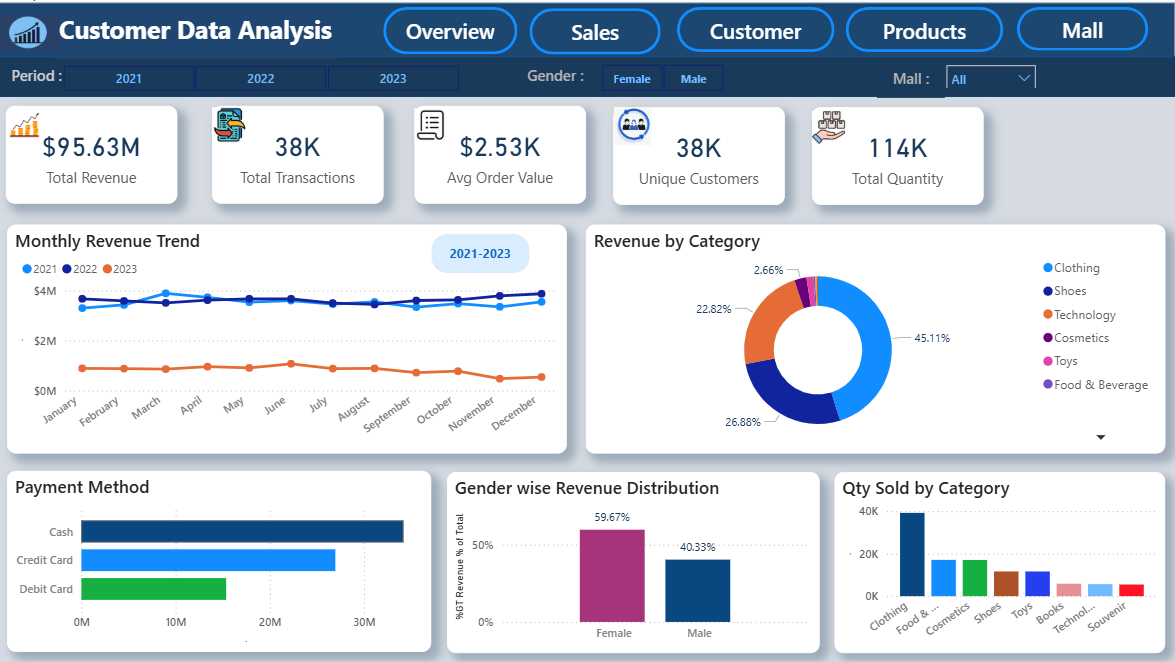

This screenshot's page, from the dashboard's own definition file:
{"tool":"powerbi","page":{"name":"Overview","canvas":[1280,720],"ordinal":0},"visuals":[{"type":"shape","box":[0,58.8,1280,45],"z":0},{"type":"shape","box":[0,0,1280.3,61.1],"z":1000},{"type":"card","fields":{"Values":["customer_data_analysis.Total Revenue"]},"box":[10,112.5,186.2,106.2],"z":2000},{"type":"slicer","fields":{"Values":["customer_data_analysis.invoice_date.Variation.Date Hierarchy.Year"]},"box":[46.4,61.8,479.1,39.9],"z":3000},{"type":"slicer","fields":{"Values":["customer_data_analysis.shopping_mall"]},"box":[1021.2,58.8,117.5,35],"z":4000},{"type":"textbox","box":[10.3,64.4,68.3,36.1],"z":5000},{"type":"textbox","box":[956.2,66.2,73.8,37.5],"z":6000},{"type":"image","box":[12.5,112.5,35,41.2],"z":7000},{"type":"card","fields":{"Values":["customer_data_analysis.Total Transactions"]},"box":[233.8,112.5,186.2,106.2],"z":8000},{"type":"image","box":[233.8,112.5,38.8,41.2],"z":9000},{"type":"card","fields":{"Values":["customer_data_analysis.Avg Order Value"]},"box":[453.8,112.5,186.2,106.2],"z":10000},{"type":"image","box":[453.8,113.8,36.2,40],"z":11000},{"type":"card","fields":{"Values":["customer_data_analysis.Unique Customers"]},"box":[670,113.8,186.2,106.2],"z":12000},{"type":"image","box":[670,113.8,42.5,41.2],"z":13000},{"type":"card","fields":{"Values":["customer_data_analysis.Total Quantity"]},"box":[885,113.8,186.2,106.2],"z":14000},{"type":"image","box":[885,116.2,36.2,38.8],"z":15000},{"type":"lineChart","title":"Monthly Revenue Trend","fields":{"Category":["customer_data_analysis.invoice_date.Variation.Date Hierarchy.Month"],"Y":["customer_data_analysis.Total Revenue"],"Series":["customer_data_analysis.Year"]},"box":[10.3,242.1,607.9,248.6],"z":16000},{"type":"donutChart","title":"   Revenue by Category","fields":{"Category":["customer_data_analysis.category"],"Y":["customer_data_analysis.Total Revenue"]},"box":[638.8,242.1,629.8,248.6],"z":17000},{"type":"textbox","box":[471.4,251.2,108.2,43.8],"z":18000},{"type":"barChart","title":"Payment Method","fields":{"Category":["customer_data_analysis.payment_method"],"Y":["Sum(customer_data_analysis.Year)"]},"box":[10.3,508.8,461.1,197.1],"z":19000},{"type":"columnChart","title":"Gender wise Revenue Distribution","fields":{"Category":["customer_data_analysis.gender"],"Y":["customer_data_analysis.Revenue % of Total"]},"box":[489.4,510,404.4,197.1],"z":20000},{"type":"columnChart","title":"Qty Sold by Category","fields":{"Category":["customer_data_analysis.category"],"Y":["Sum(customer_data_analysis.quantity)"]},"box":[909.3,510,359.3,197.1],"z":21000},{"type":"slicer","fields":{"Values":["customer_data_analysis.gender"]},"box":[631.1,60.5,181.6,42.5],"z":22000},{"type":"textbox","box":[562.9,64.4,86.3,34.8],"z":23000},{"type":"textbox","box":[62.2,6.3,308.3,54.6],"z":24000},{"type":"image","box":[0,4.9,67.3,55],"z":25000},{"type":"actionButton","title":"Overview","box":[419.4,5.6,145.8,51.4],"z":26000},{"type":"actionButton","title":"Sales","box":[578.4,6.8,142.6,50.2],"z":27000},{"type":"actionButton","title":"Customer","box":[738.6,5.4,171.1,48.9],"z":28000},{"type":"actionButton","title":"Customer","box":[921.9,5.4,171.1,48.9],"z":29000},{"type":"actionButton","box":[1107.9,5.4,142.6,47.5],"z":30000}]}

Visuals, with their boxes in screenshot pixels (x1, y1, x2, y2), scaled from the page's 1280x720 canvas onto the 1175x662 screenshot:
shape: 0,54,1174,95
shape: 0,0,1174,56
card - customer_data_analysis.Total Revenue: 9,103,180,201
slicer - customer_data_analysis.invoice_date.Variation.Date Hierarchy.Year: 43,57,482,94
slicer - customer_data_analysis.shopping_mall: 937,54,1045,86
textbox: 9,59,72,92
textbox: 878,61,946,95
image: 11,103,44,141
card - customer_data_analysis.Total Transactions: 215,103,386,201
image: 215,103,250,141
card - customer_data_analysis.Avg Order Value: 417,103,588,201
image: 417,105,450,141
card - customer_data_analysis.Unique Customers: 615,105,786,202
image: 615,105,654,143
card - customer_data_analysis.Total Quantity: 812,105,983,202
image: 812,107,846,143
"Monthly Revenue Trend" lineChart: 9,223,567,451
"   Revenue by Category" donutChart: 586,223,1165,451
textbox: 433,231,532,271
"Payment Method" barChart: 9,468,433,649
"Gender wise Revenue Distribution" columnChart: 449,469,820,650
"Qty Sold by Category" columnChart: 835,469,1165,650
slicer - customer_data_analysis.gender: 579,56,746,95
textbox: 517,59,596,91
textbox: 57,6,340,56
image: 0,5,62,55
"Overview" actionButton: 385,5,519,52
"Sales" actionButton: 531,6,662,52
"Customer" actionButton: 678,5,835,50
"Customer" actionButton: 846,5,1003,50
actionButton: 1017,5,1148,49
